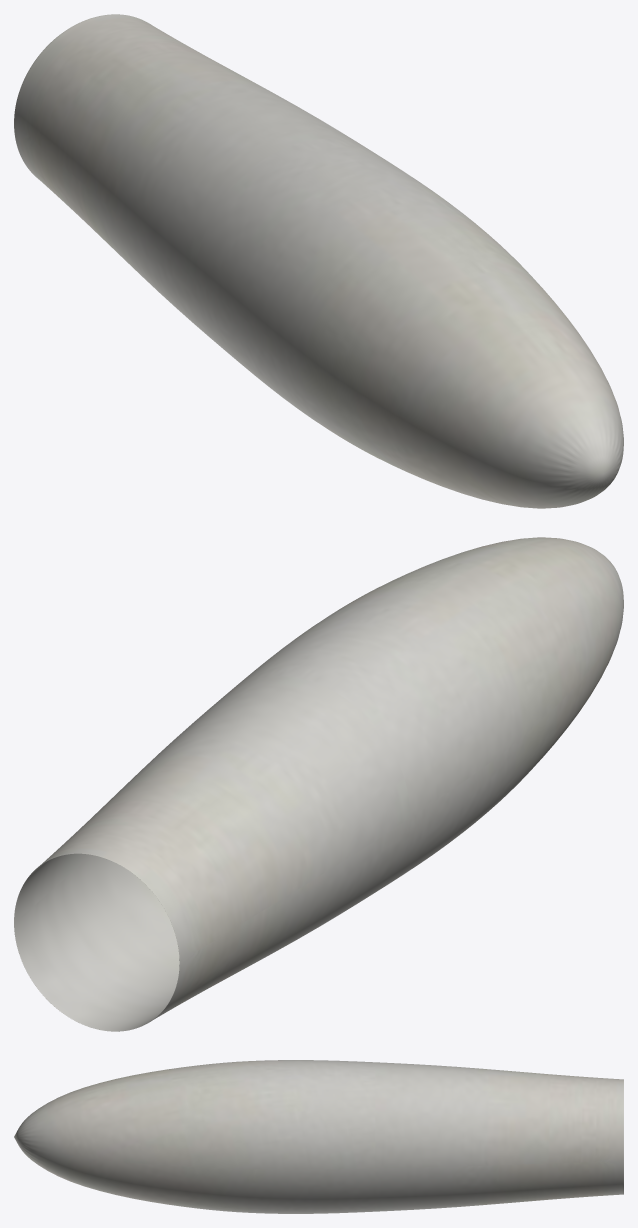
The model's file is RoundWhiteOnionPeel008.obj.
3 renders of one model, top to bottom at view 1: azimuth 30°, elevation 25°; view 2: azimuth 150°, elevation 25°; view 3: azimuth 270°, elevation 25°, orthographic. The views are drawn at different scales.
Parts seen in each view (by area): view 1: RoundWhiteOnionPeel008; view 2: RoundWhiteOnionPeel008; view 3: RoundWhiteOnionPeel008.
Boxes of the visible parts, <box> form: RoundWhiteOnionPeel008: <box>14,14,623,508</box>; RoundWhiteOnionPeel008: <box>14,537,623,1031</box>; RoundWhiteOnionPeel008: <box>14,1060,623,1213</box>.
Size of the model in its own units: 0.0165 by 0.0165 by 0.0655.
Materials: 1 (1 with a texture image).
